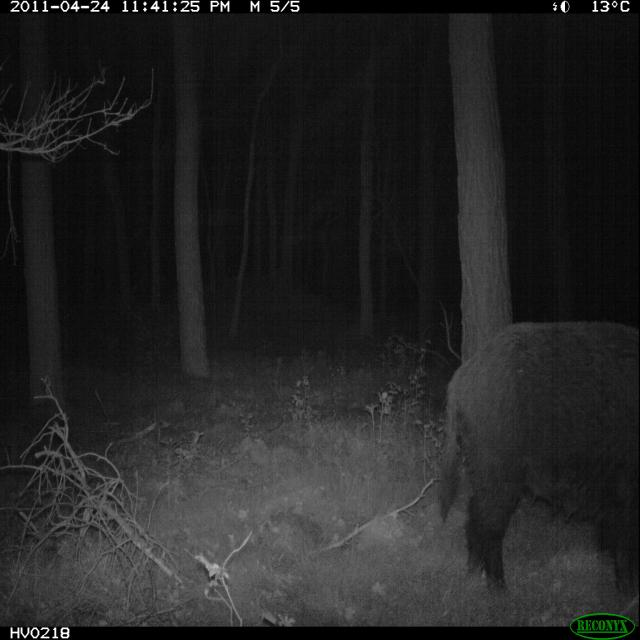boar: (419, 288, 640, 621)
